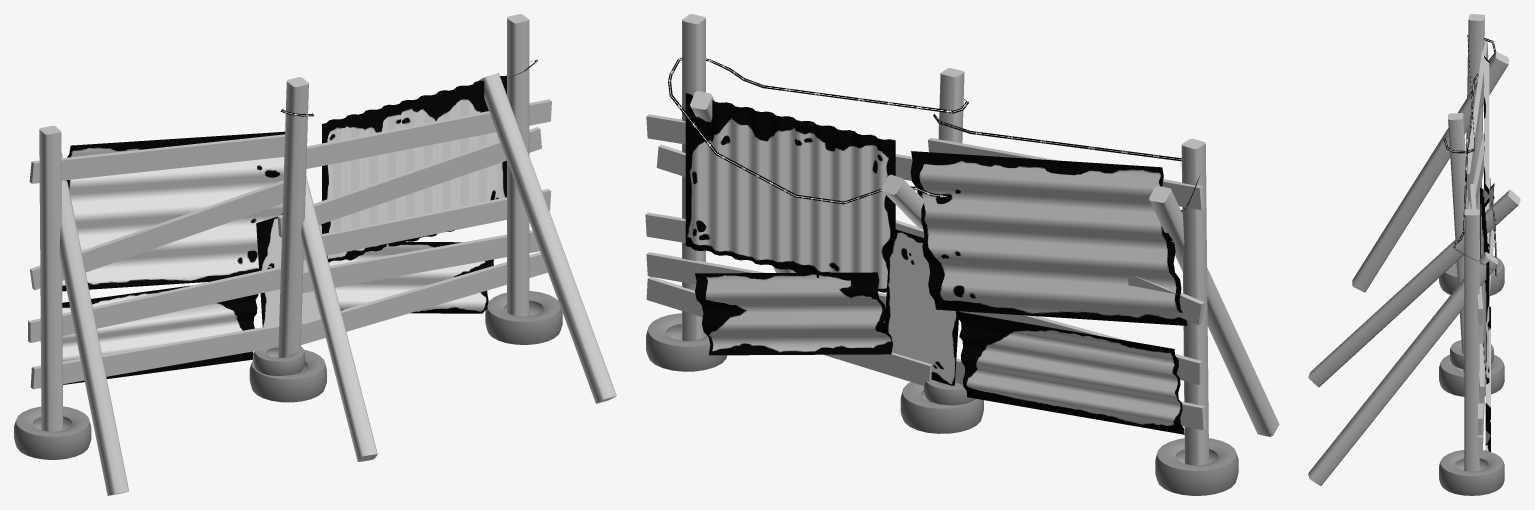
File: JunkWall1.FBX
The picture shows the model from 3 angles, left to right: view 1: azimuth 30°, elevation 25°; view 2: azimuth 150°, elevation 25°; view 3: azimuth 270°, elevation 25°; orthographic projection. The views are drawn at different scales.
Parts seen in each view (by area): view 1: JunkWall1; view 2: JunkWall1; view 3: JunkWall1.
Boxes of the visible parts, x1=… form: JunkWall1: x1=14, y1=14, x2=616, y2=495; JunkWall1: x1=645, y1=14, x2=1279, y2=495; JunkWall1: x1=1308, y1=14, x2=1520, y2=495.
Size of what is drawn, in the model's own units: 180 by 71.73 by 102.
